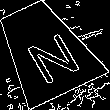N_NW: (12, 19, 79, 82)
